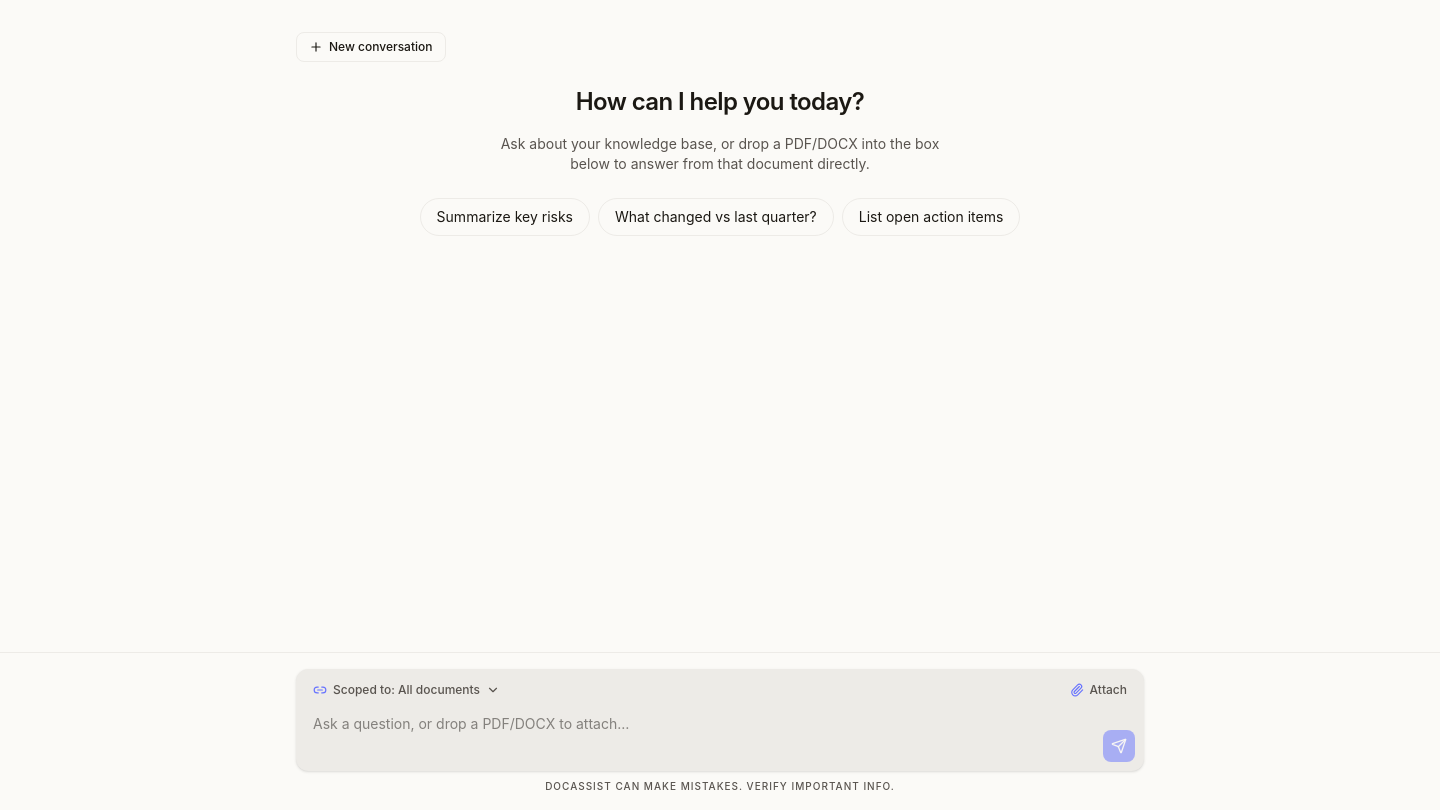
Test: ChatPage (M8) › sends a fresh question — lazily creates a session and streams the answer
Type "What changed this quarter?" into the text box.
click(700, 734); type("What changed this quarter?")  # box [305,706,1095,762]
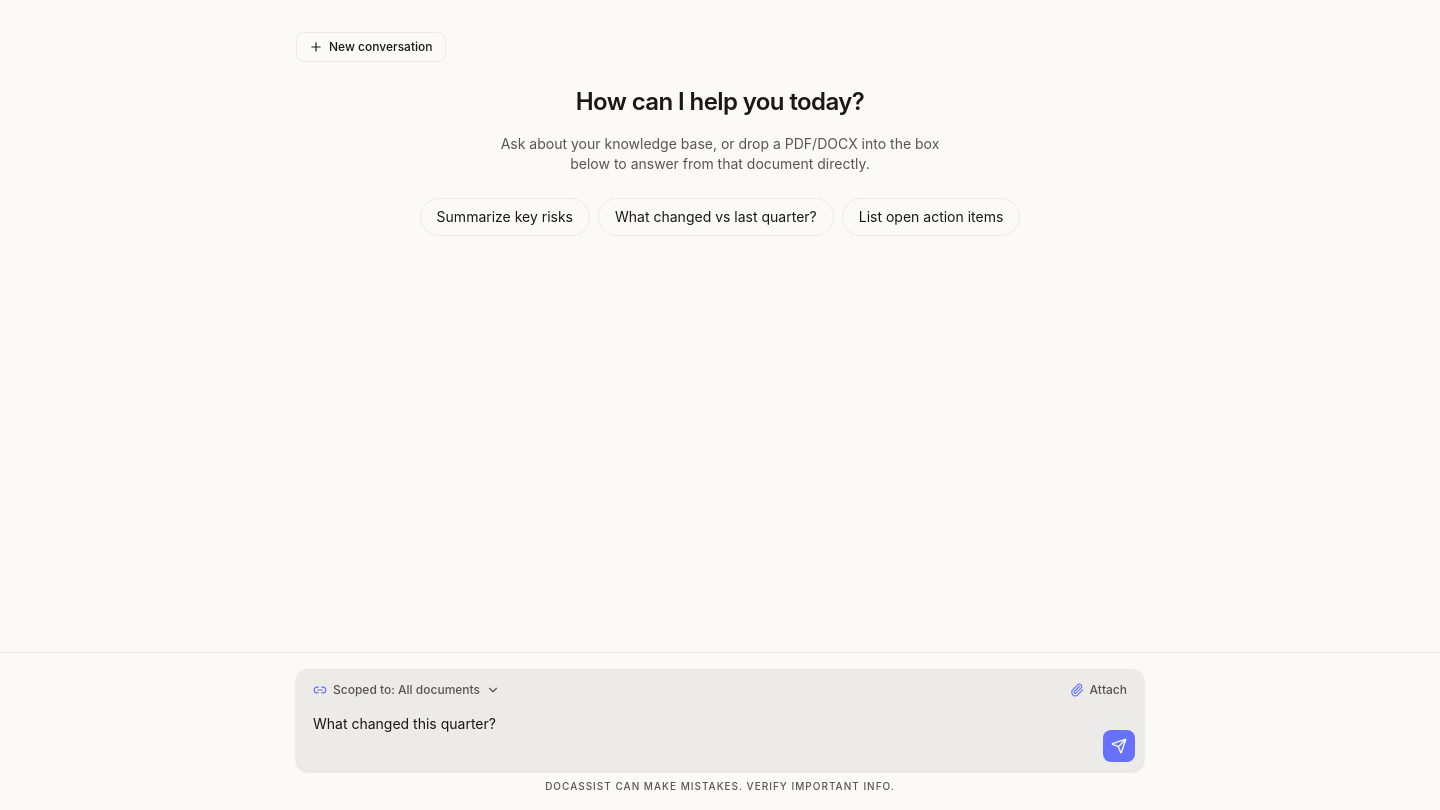
Click the button named "Send message".
click(1119, 746)  # box [1103,730,1135,762]
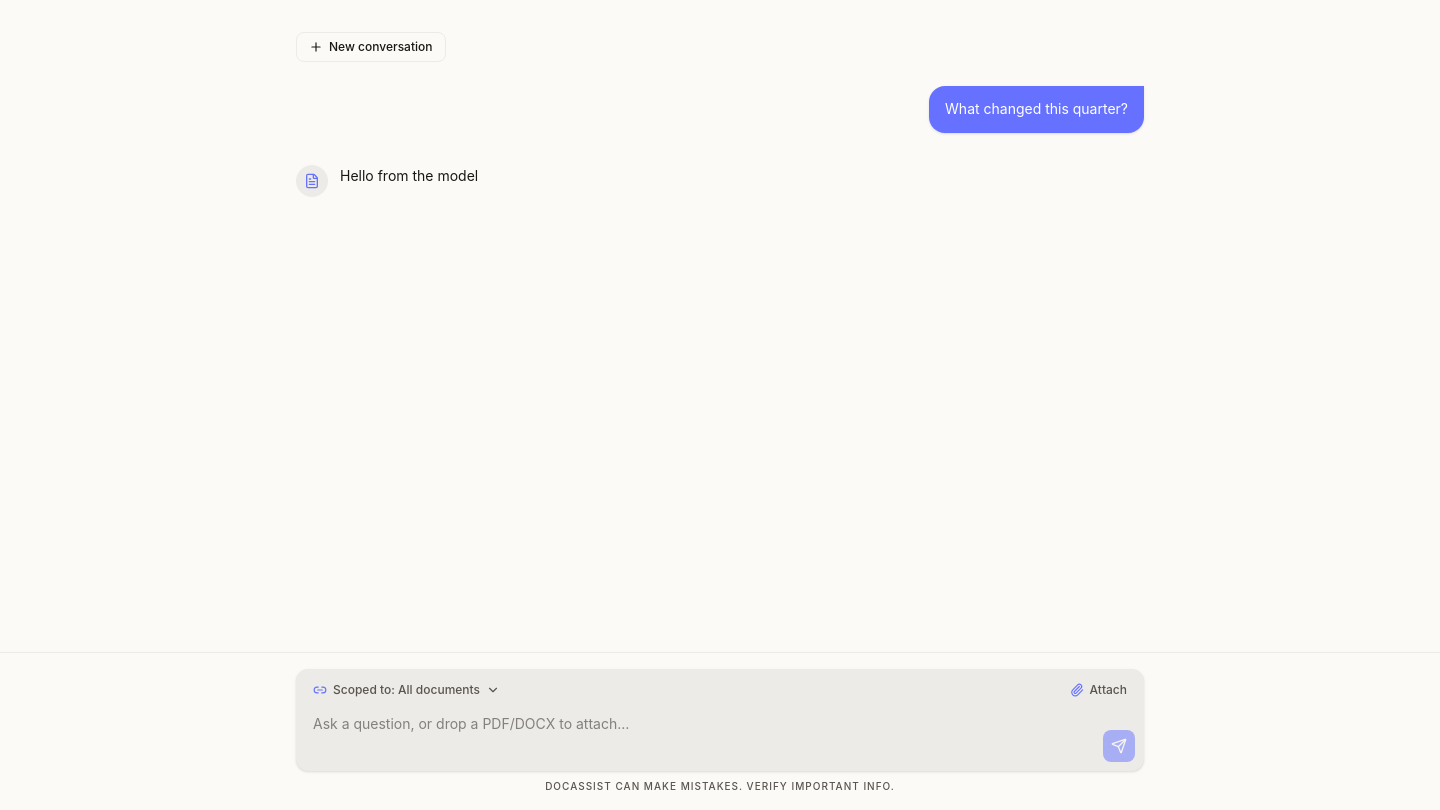
Check: the text "What changed this quarter?" is shown, box [929,86,1144,133]
Check: the text "Hello from the model" is shown, box [340,165,478,188]
